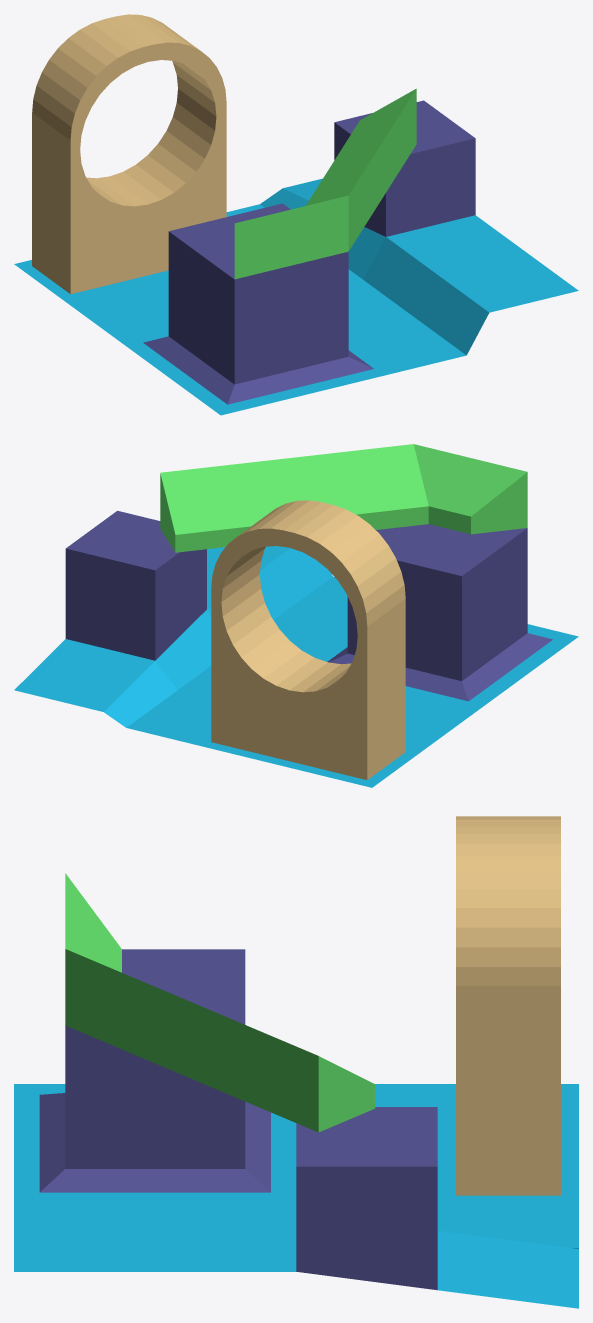
Rendered from IMT_Environment1.fbx.
3 renders of one model, top to bottom at view 1: azimuth 30°, elevation 25°; view 2: azimuth 150°, elevation 25°; view 3: azimuth 270°, elevation 25°, orthographic. The views are drawn at different scales.
Visible parts, largest first — view 1: Environment1; view 2: Environment1; view 3: Environment1.
Part boxes in pixels (x1=…): Environment1: x1=14, y1=14, x2=578, y2=415; Environment1: x1=14, y1=444, x2=578, y2=787; Environment1: x1=14, y1=816, x2=578, y2=1308.
Size of the model in its own units: 50 by 30.61 by 50.
